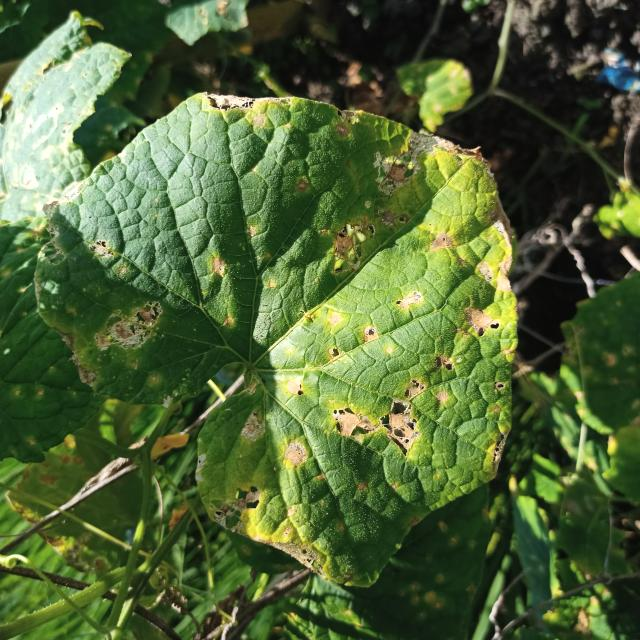disease_cucumber: (58, 110, 506, 580)
